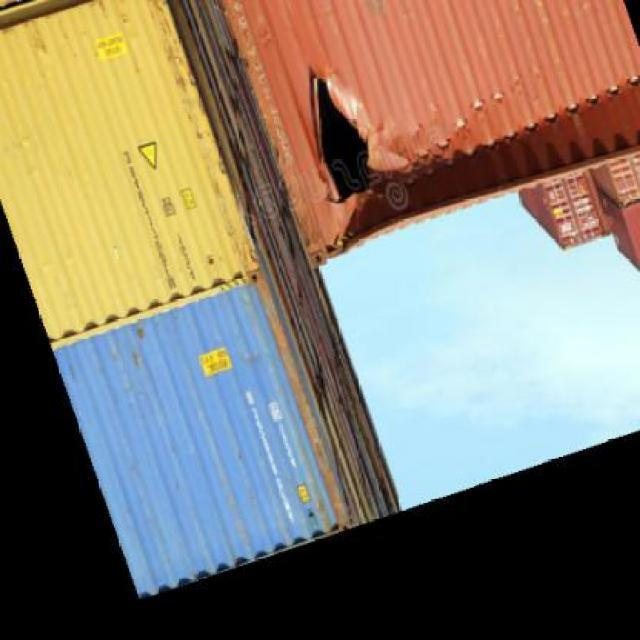dent: (395, 70, 629, 200)
